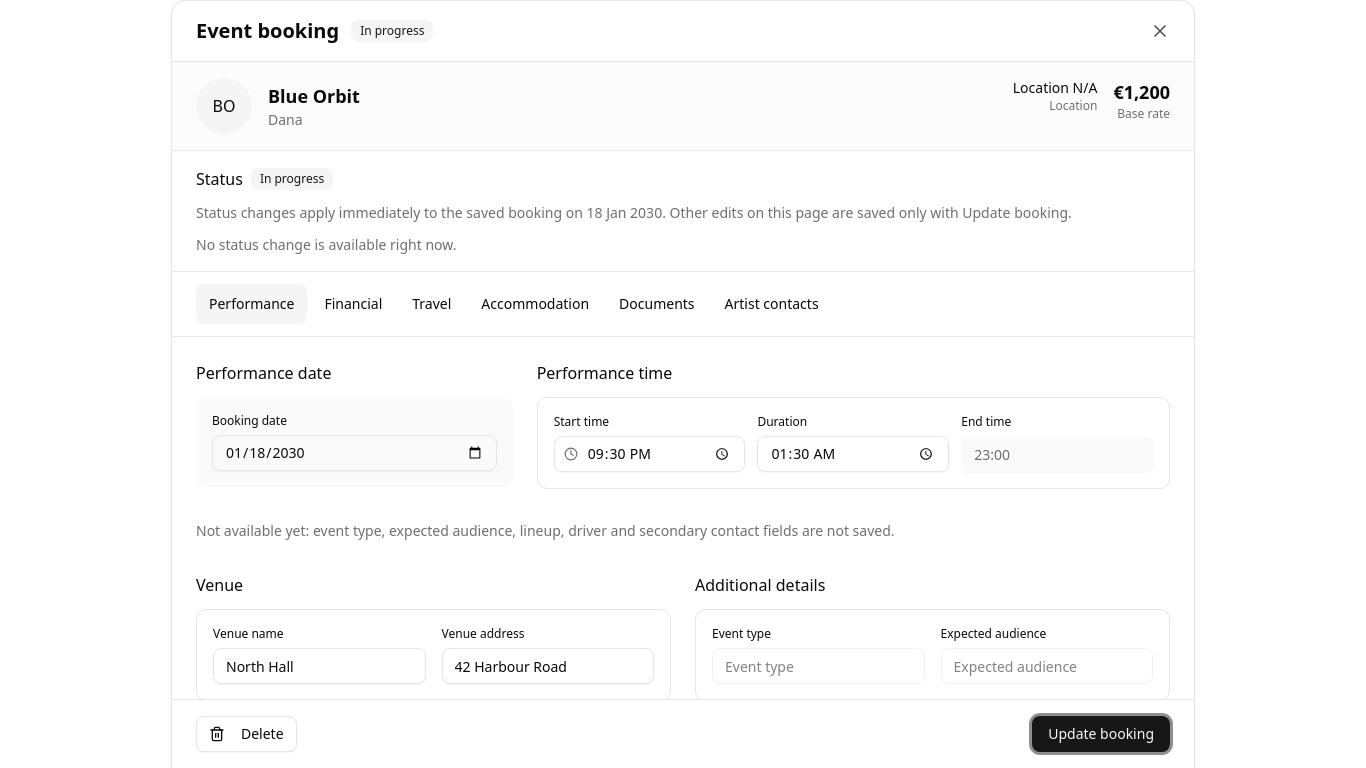
Test case: releases the pending guard after a thrown failure without moving focus and permits retry
The image size is (1366, 768).
Later steps or results of the test are not shown.
Click the button "Update booking" at (1101, 734), box left=1032, top=716, right=1170, bottom=752
(page scrolled)
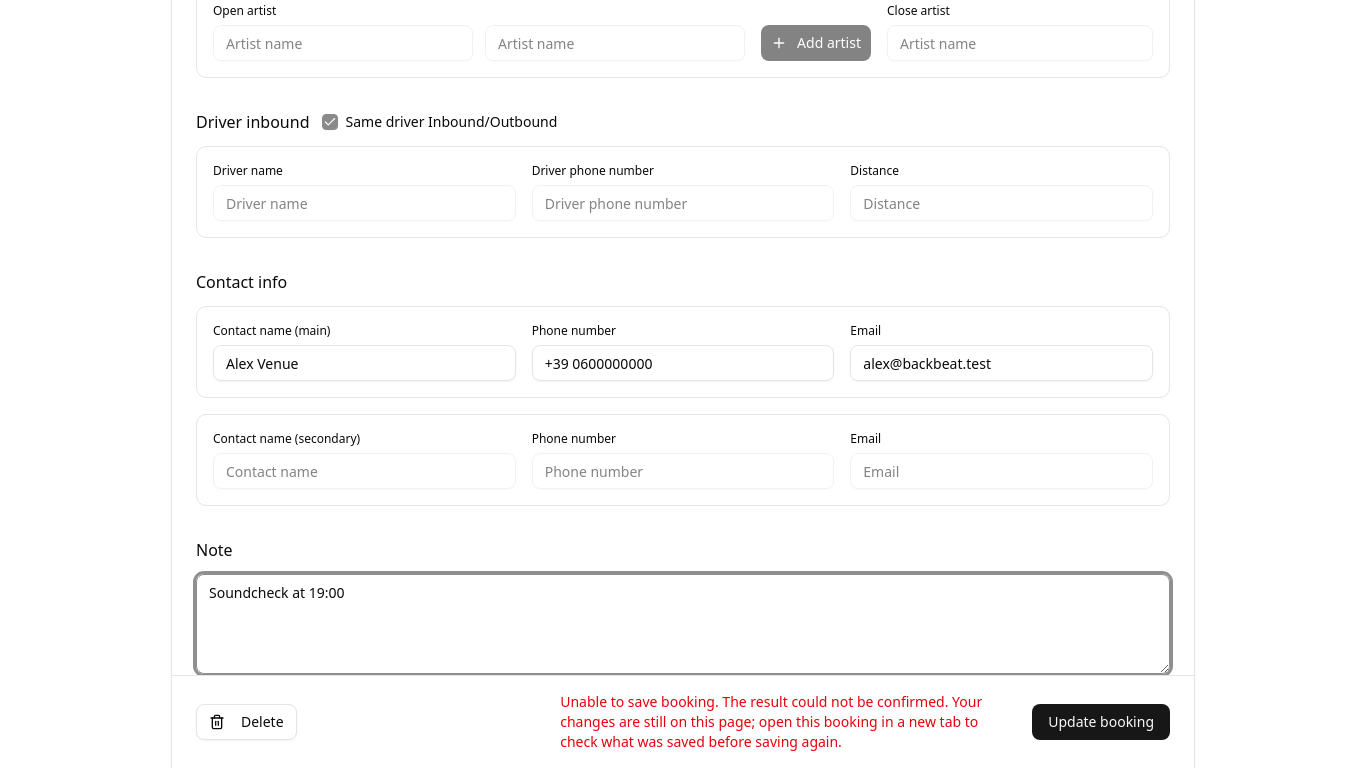
Expected: the button "Update booking" is enabled, left=1032, top=704, right=1170, bottom=740
Expected: the message shows "Unable to save booking", left=560, top=692, right=982, bottom=751
